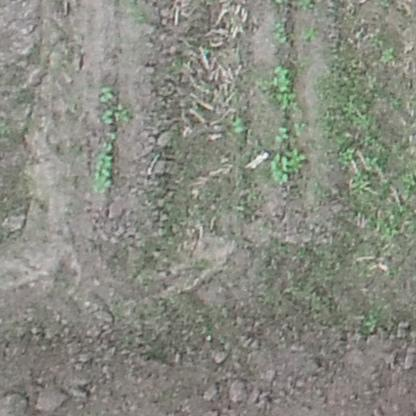vc: (93, 154, 114, 193), (271, 65, 294, 92), (272, 124, 290, 145), (98, 86, 115, 102), (231, 116, 246, 134), (101, 109, 114, 126)
